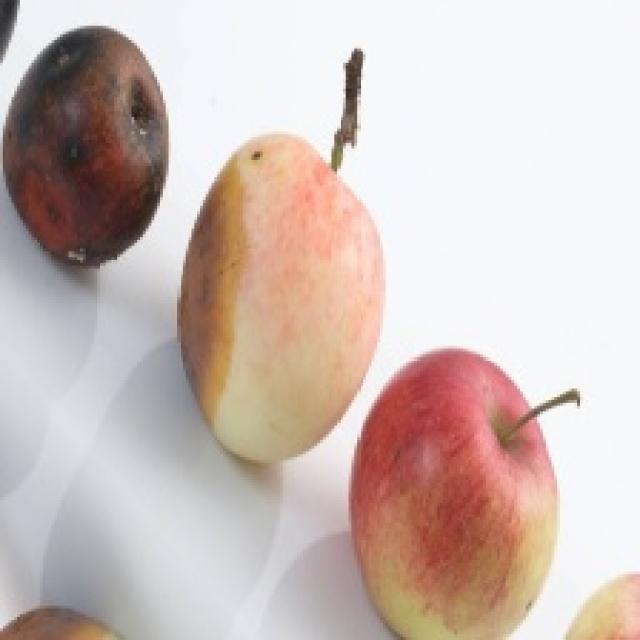rotten_apple: (182, 137, 384, 459), (5, 28, 170, 264)
